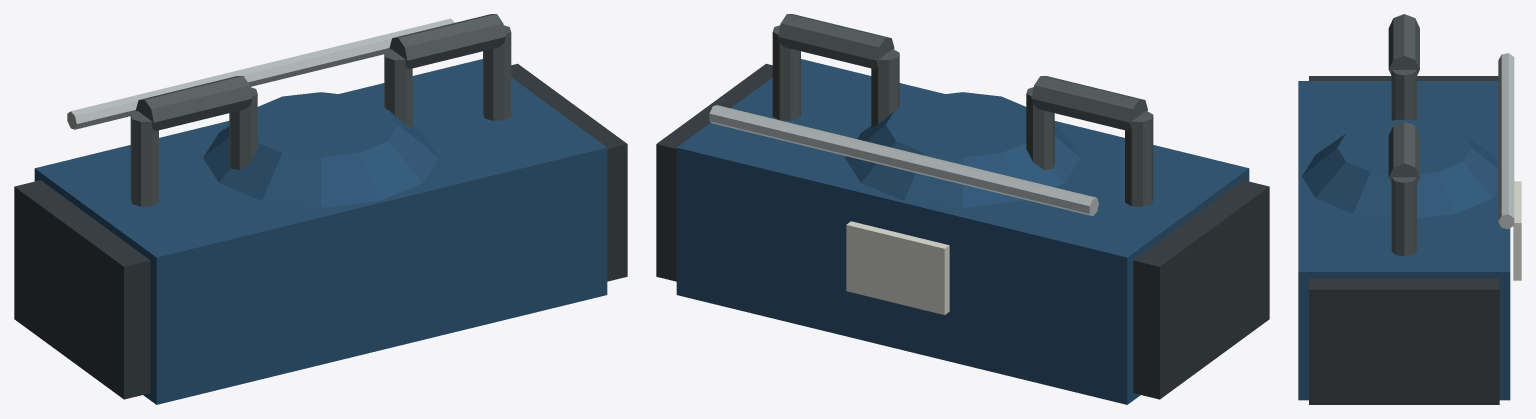
Rendered from HomebaseDuffelBag_LOD00.gltf.
3 views of the same model, side by side, from view 1: azimuth 30°, elevation 25°; view 2: azimuth 150°, elevation 25°; view 3: azimuth 270°, elevation 25° (orthographic). The views are drawn at different scales.
Parts seen in each view (by area): view 1: HomebaseDuffelBag_node; view 2: HomebaseDuffelBag_node; view 3: HomebaseDuffelBag_node.
Boxes of the visible parts, x1=… form: HomebaseDuffelBag_node: x1=14, y1=14, x2=627, y2=404; HomebaseDuffelBag_node: x1=656, y1=14, x2=1269, y2=404; HomebaseDuffelBag_node: x1=1298, y1=14, x2=1521, y2=404.
Size of the model in its own units: 0.715 by 0.362 by 0.316.
